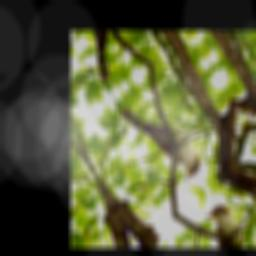Cuckoo: (118, 78, 206, 198)
